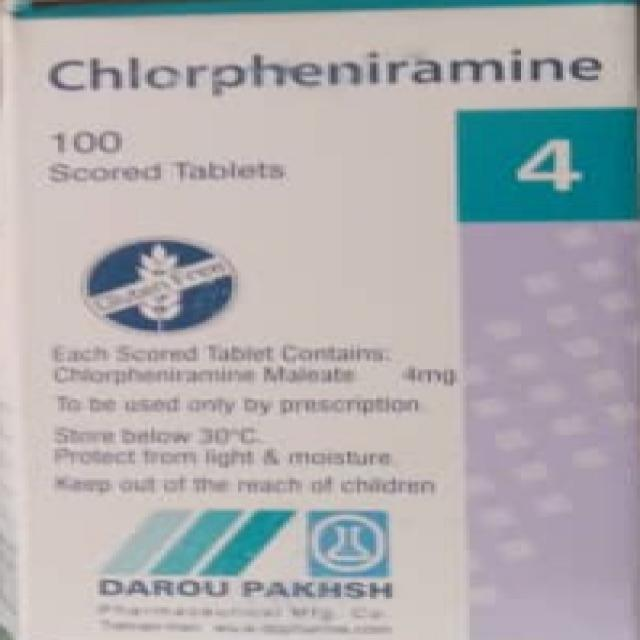drug-name: (38, 46, 624, 99)
